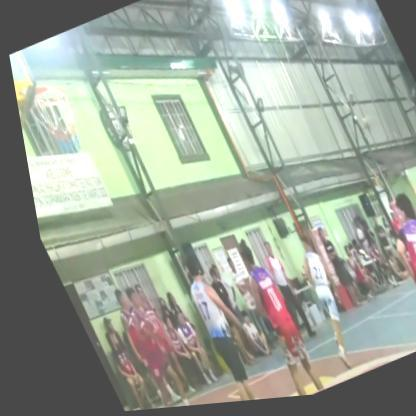basketball: (127, 312, 147, 338)
rim: (11, 63, 92, 170)
